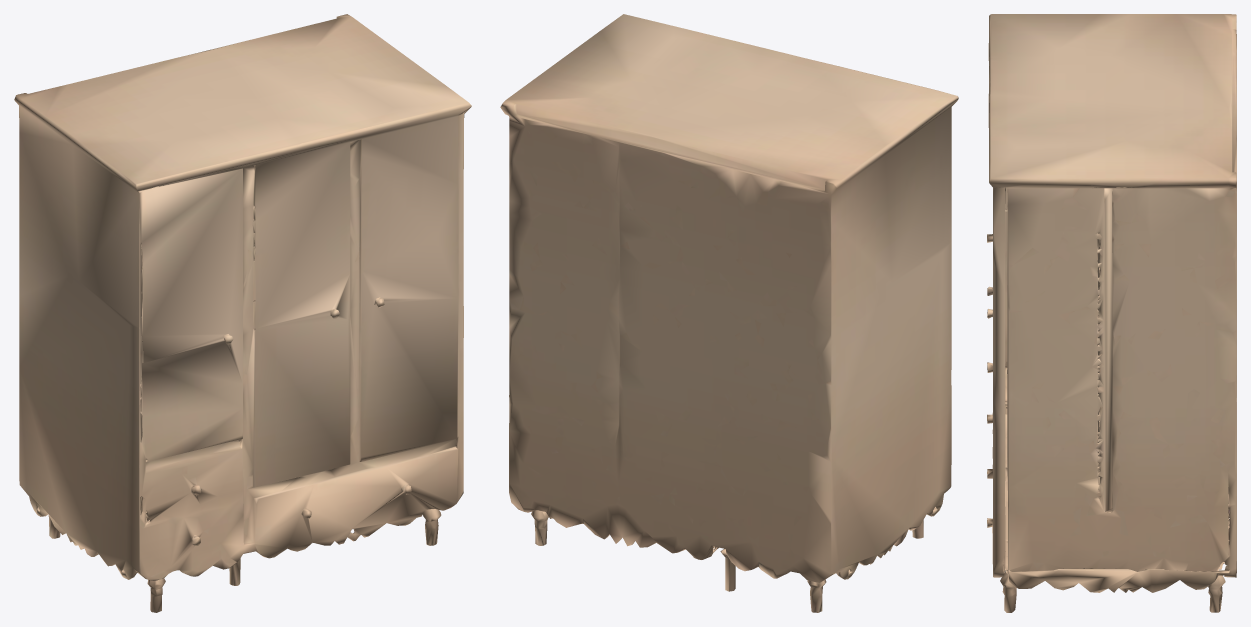
Rendered from vko5KSMMHj8zwmr2MEy4x.glb.
The picture shows the model from 3 angles, left to right: view 1: azimuth 30°, elevation 25°; view 2: azimuth 150°, elevation 25°; view 3: azimuth 270°, elevation 25°; orthographic projection.
Visible parts, largest first — view 1: geometry_0; view 2: geometry_0; view 3: geometry_0.
Part boxes in pixels (<box>): geometry_0: <box>14,14,471,612</box>; geometry_0: <box>500,14,958,612</box>; geometry_0: <box>987,14,1236,612</box>.
Bounding box in the file's own units: 0.8001 × 1 × 0.5084.
Materials: 1 (1 with a texture image).
